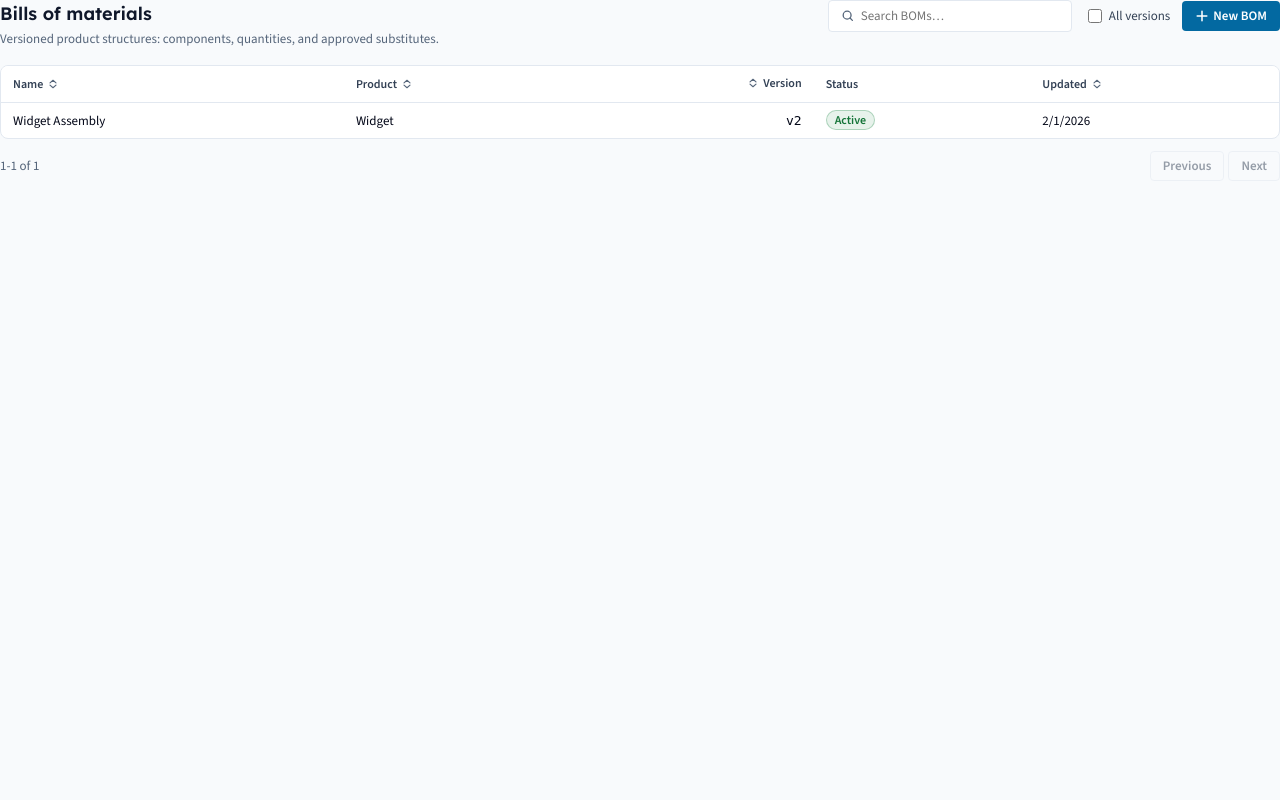
Test case: BomsPage › renders the version chain in ascending order with the current version highlighted
This screenshot has width=1280, height=800.
Click the text "Widget Assembly". click: (59, 120)
box: [1,102,344,138]
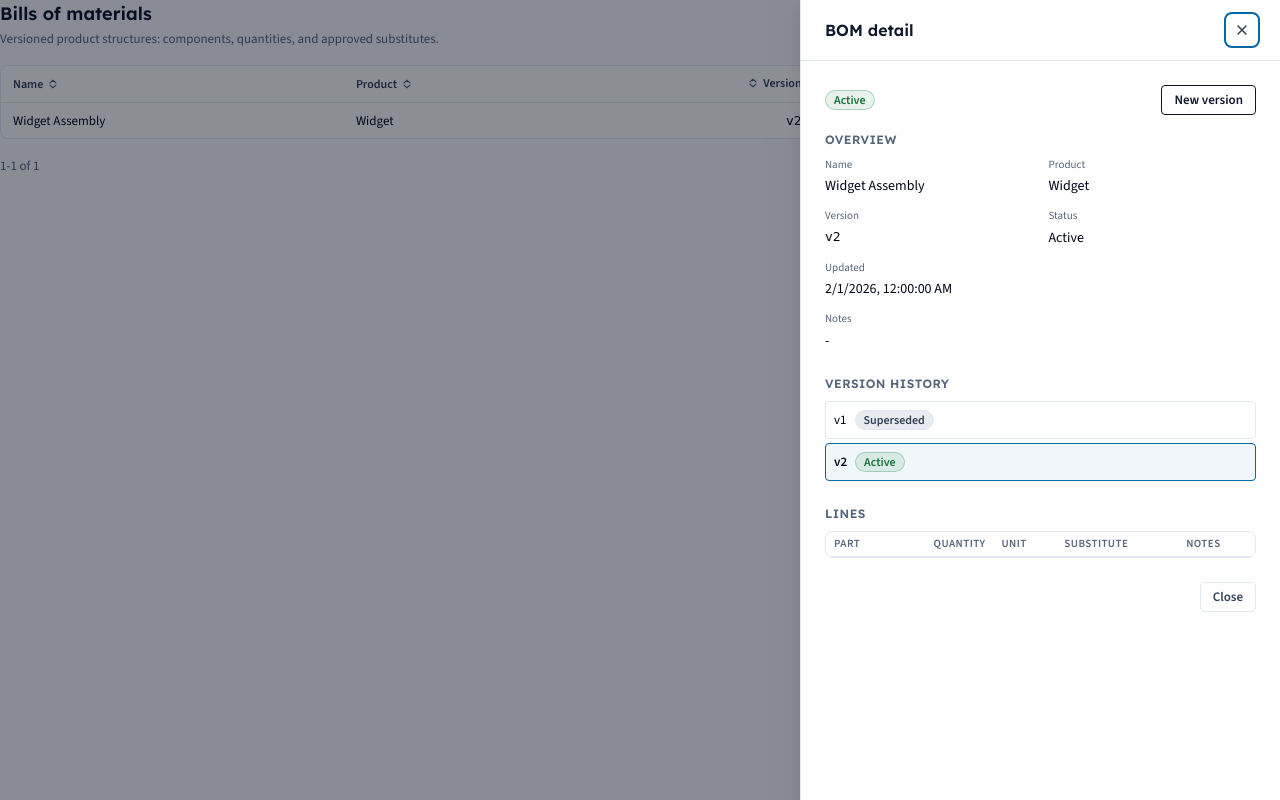
Check: the heading "Version history" is shown, box [825,376,950,390]
Check: the button "v1 Superseded" is shown, box [825,400,1256,438]
Check: the button "v2 Active" is shown, box [825,442,1256,480]
